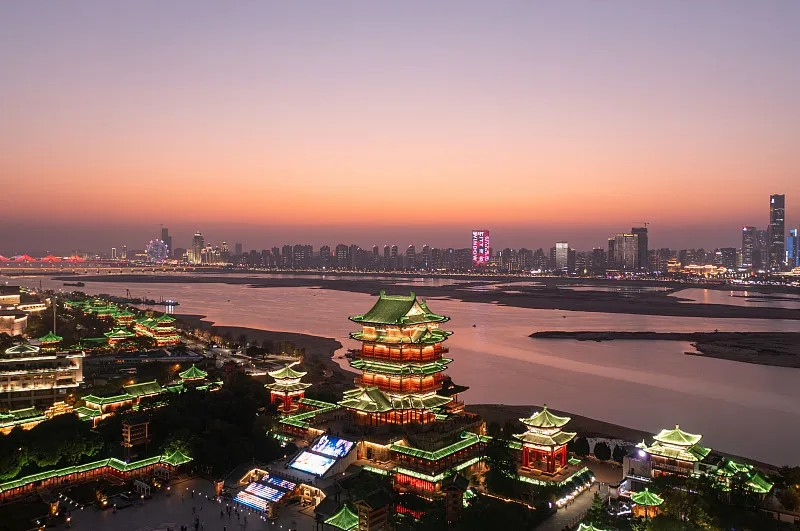Teng: (335, 291, 469, 423)
